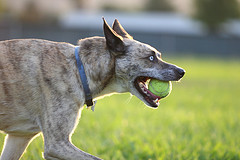tennis ball: (147, 77, 172, 100)
